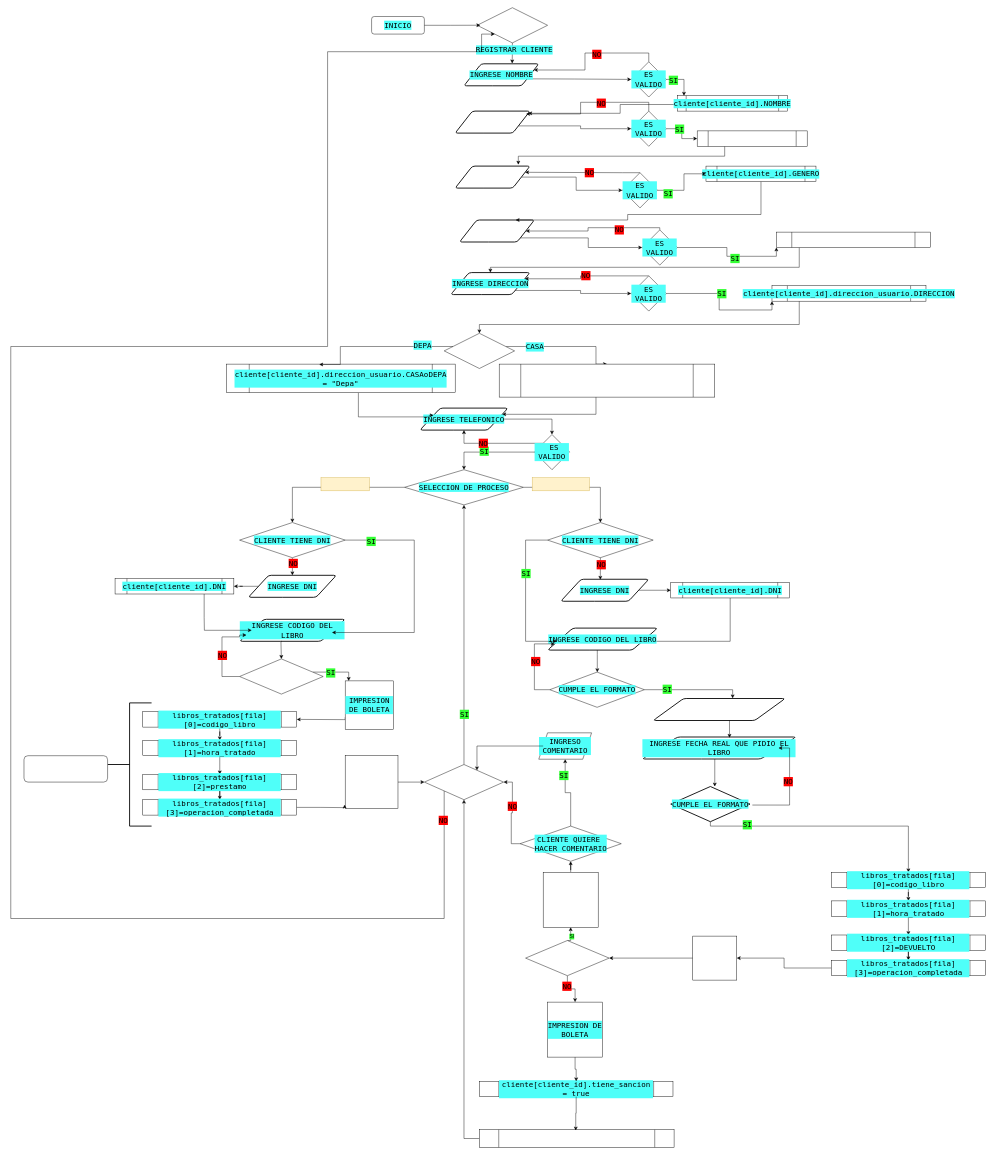
Image size: 993x1155. Some labels were removed from this diagram. The shapes that lost their labels are listed below. From the top down, each one's centre as x and y in pixels, then its label:
[512,25]: TIPO DE ACCESO
[492,121]: INGRESE EDAD
[752,138]: cliente[cliente_id].EDAD
[492,176]: INGRESE GENERO
[497,230]: INGRESE DISTRITO
[853,240]: cliente[cliente_id].direccion_usuario.DISTRITOS
[479,350]: CASA O DEPA
[607,380]: cliente[cliente_id].direccion_usuario.CASAoDEPA = "Casa"
[345,484]: PRESTAMO
[560,484]: DEVOLUCION
[281,676]: EXISTE CODIGO
[719,709]: INGRESE TIPO DE PUBLICACION
[66,768]: ACTUALIZACION DE INVENTAERIO DE CLIENTE
[371,781]: MUESTRA DEL INVENTARIO ACTUAL DEL CLIENTE
[464,782]: HACER OTRO PROCESO
[570,899]: MENSAJE DE AGRADECIMIENTO
[567,958]: DEVOLVIO A TIEMPO
[714,958]: CALCULO DIAS DE DEVOLUCION
[576,1138]: cliente[cliente_id].tiempo_sancion = 1 mes de sancion
